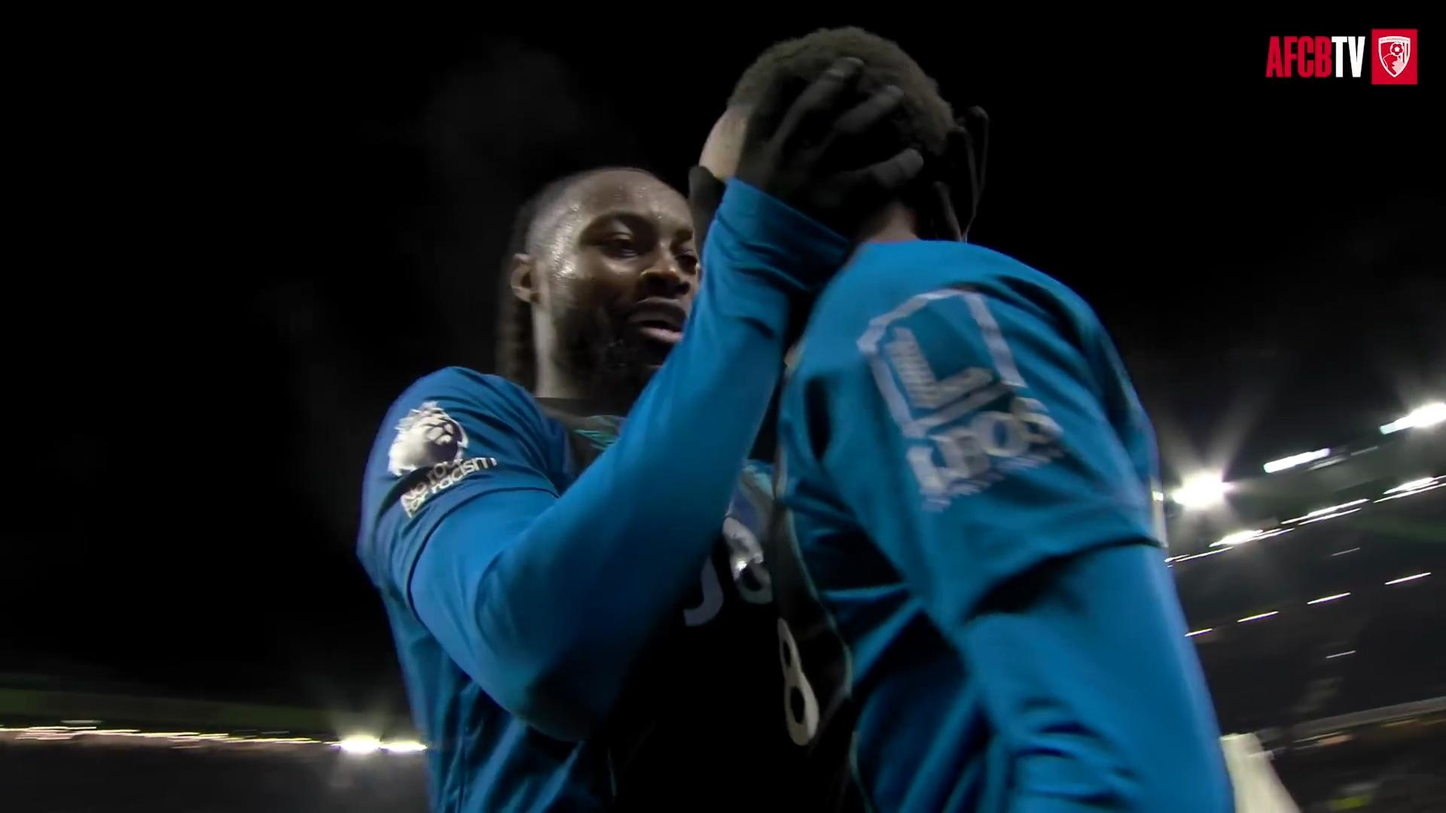player: (690, 29, 1231, 812), (358, 60, 920, 812)
